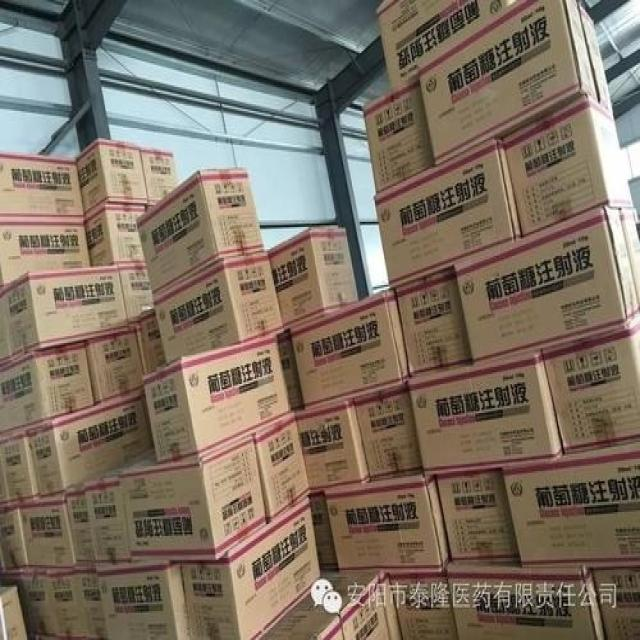box: (417, 0, 600, 166), (454, 207, 640, 365), (374, 137, 524, 290), (407, 350, 567, 476), (183, 497, 321, 640), (141, 335, 291, 464), (119, 435, 268, 563), (503, 94, 635, 236), (136, 167, 265, 304), (502, 442, 640, 568), (289, 288, 410, 410), (27, 386, 152, 502), (155, 253, 284, 365), (540, 316, 640, 454), (444, 558, 605, 640), (324, 474, 451, 575), (1, 265, 129, 364), (376, 0, 515, 90), (259, 570, 403, 640), (265, 227, 360, 329), (394, 265, 475, 377), (0, 340, 95, 435), (362, 77, 436, 193), (86, 447, 152, 573), (435, 468, 518, 561), (96, 563, 192, 640), (296, 398, 371, 495), (353, 382, 425, 480), (253, 411, 310, 524), (0, 150, 86, 224), (0, 222, 92, 288), (76, 138, 148, 220), (388, 573, 457, 640), (19, 497, 78, 572), (86, 331, 143, 406), (0, 570, 61, 640), (86, 203, 148, 268), (579, 5, 613, 114), (593, 565, 640, 638), (0, 427, 40, 509), (118, 259, 157, 335), (64, 488, 97, 573), (275, 328, 306, 415), (50, 573, 90, 640), (308, 490, 338, 577), (140, 148, 179, 208), (620, 208, 640, 317), (134, 314, 168, 374), (79, 573, 108, 640), (0, 585, 27, 640), (0, 288, 13, 372)
